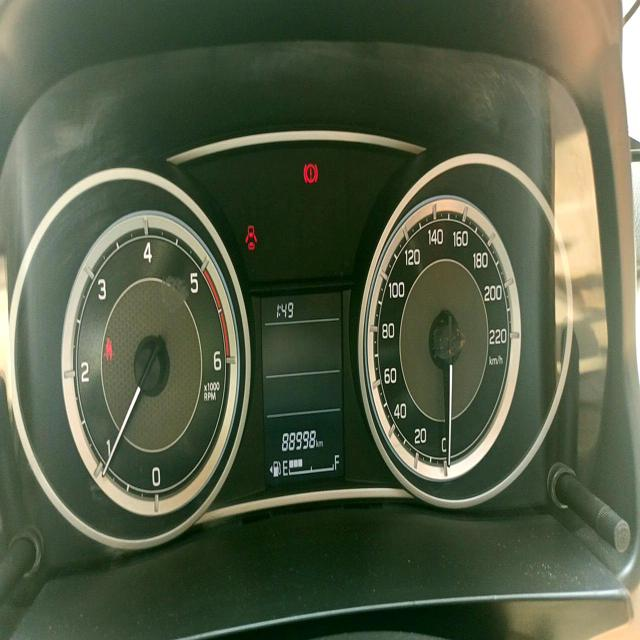odometer: (280, 428, 319, 454)
